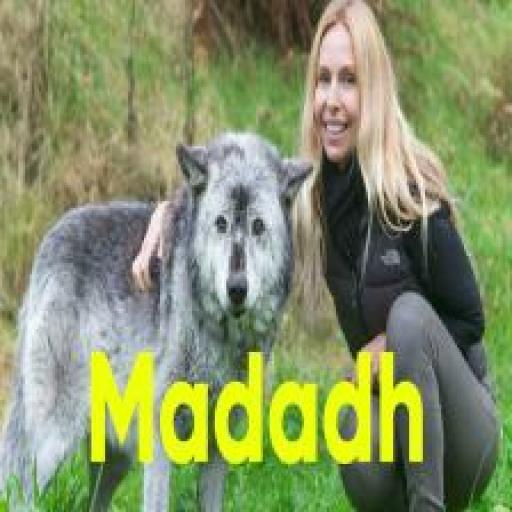wolf: (14, 98, 320, 512)
